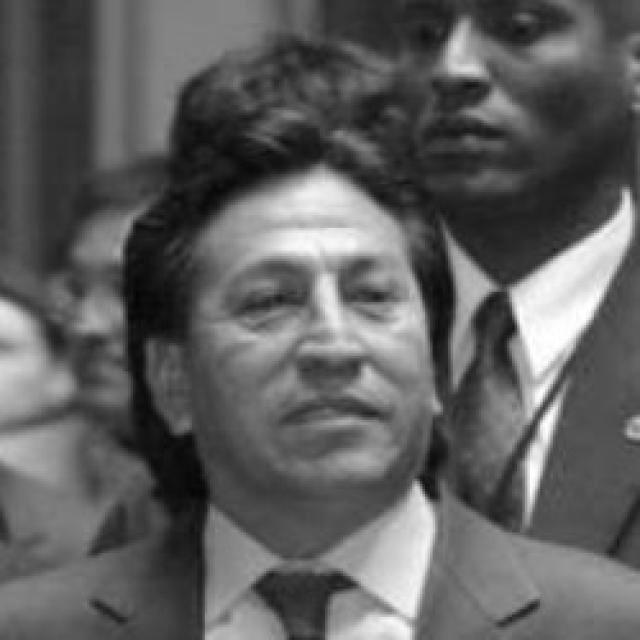real: (179, 181, 436, 509), (403, 5, 640, 204), (235, 271, 397, 327), (411, 17, 564, 60)
